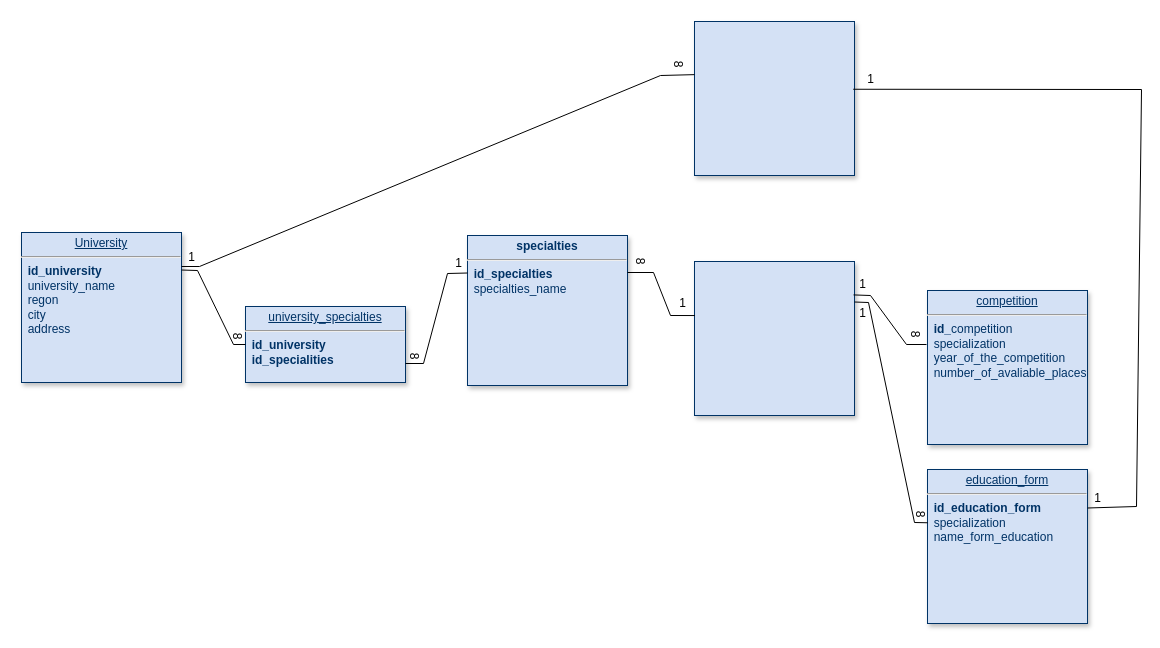
This 1160x648 diagram has some shape labels left out. Here are the shapes that lost their labels. From the top down, the centre of each, then its label:
At (775,99): "payment id_payment university education_form payment_size".
At (775,339): "specialization id_specialization specialties specialization_name".
